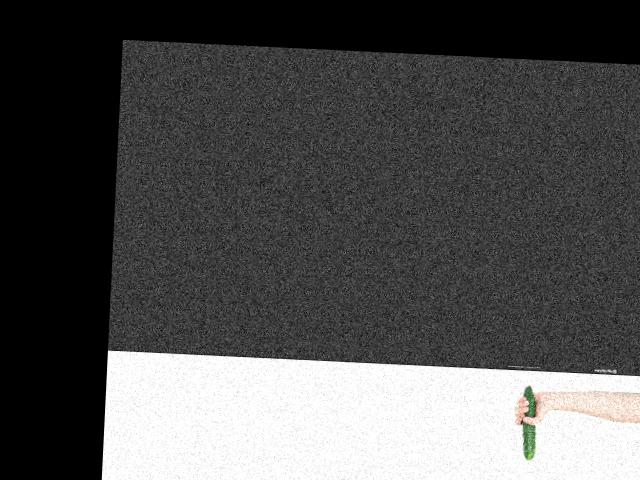cucumber: (519, 384, 538, 460)
